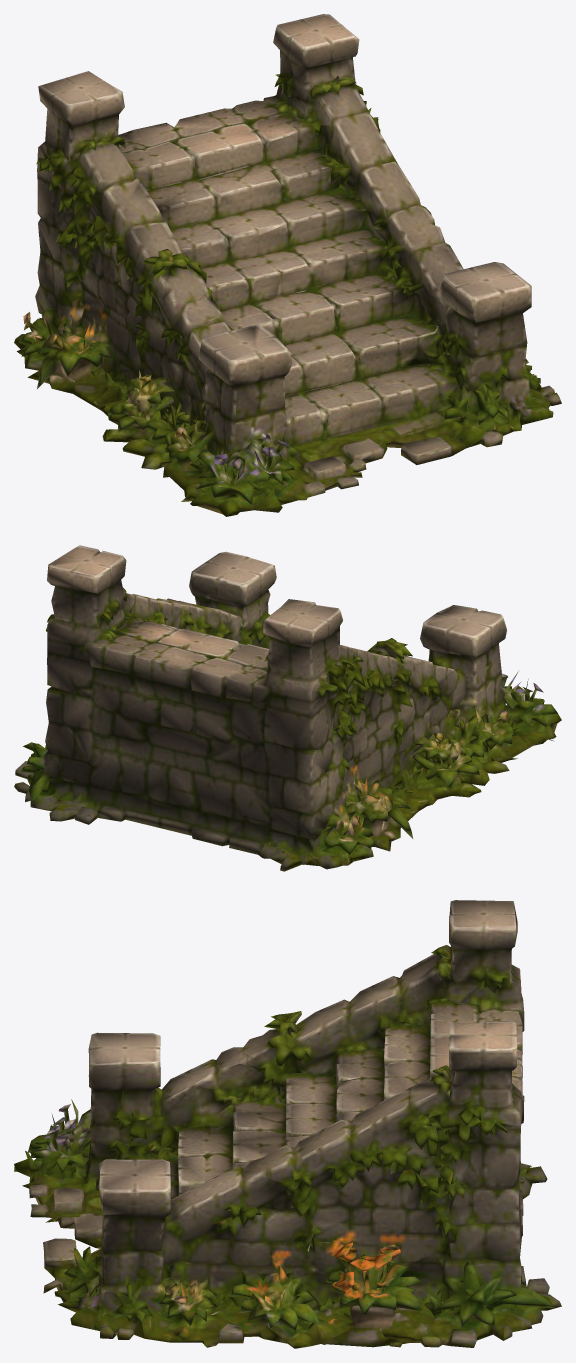
The model's file is terrace-stair.glb.
3 views of the same model, one above another, from view 1: azimuth 30°, elevation 25°; view 2: azimuth 150°, elevation 25°; view 3: azimuth 270°, elevation 25° (orthographic). The views are drawn at different scales.
Visible parts, largest first — view 1: Mesh1.0; view 2: Mesh1.0; view 3: Mesh1.0.
Part boxes in pixels (x1=…): Mesh1.0: x1=14, y1=14, x2=561, y2=516; Mesh1.0: x1=14, y1=545, x2=561, y2=871; Mesh1.0: x1=14, y1=900, x2=561, y2=1348.
Bounding box in the file's own units: 1.72 × 1.04 × 1.9.
Materials: 1 (1 with a texture image).
